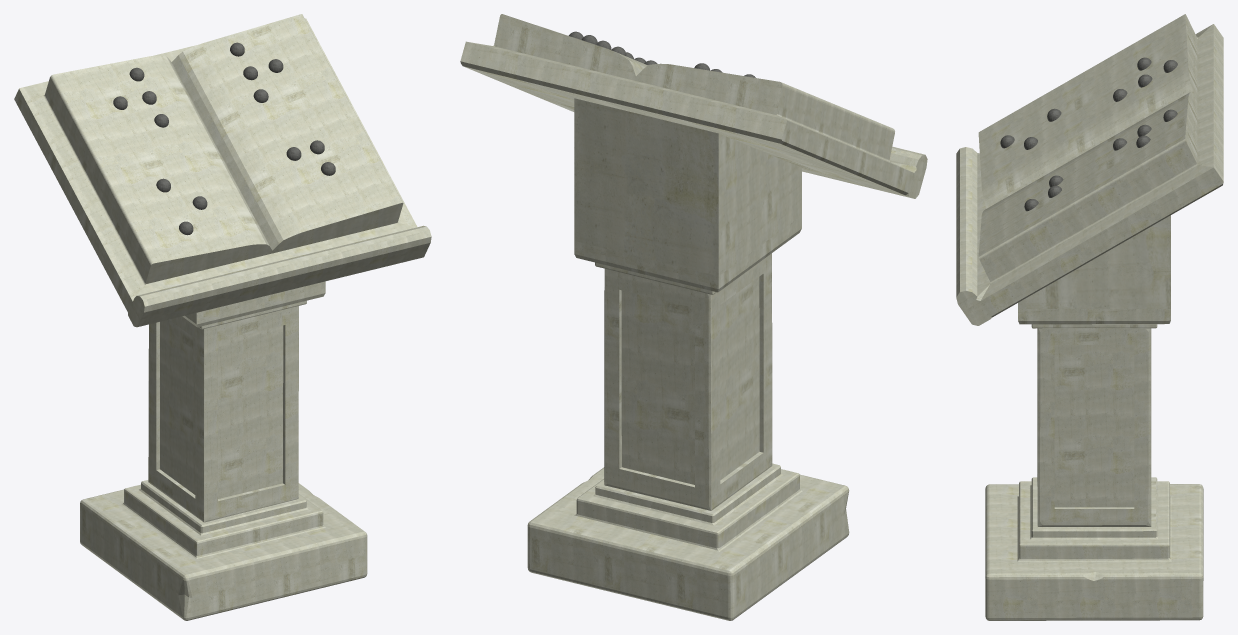
File: lectern.fbx
The picture shows the model from 3 angles, left to right: view 1: azimuth 30°, elevation 25°; view 2: azimuth 150°, elevation 25°; view 3: azimuth 270°, elevation 25°; orthographic projection. The views are drawn at different scales.
Parts seen in each view (by area): view 1: Cube; view 2: Cube; view 3: Cube.
Boxes of the visible parts, x1=… form: Cube: x1=14, y1=14, x2=431, y2=620; Cube: x1=460, y1=14, x2=927, y2=620; Cube: x1=956, y1=14, x2=1223, y2=620.
Size of the model in its own units: 78 by 126 by 61.3.
Materials: 2 (2 with a texture image).
